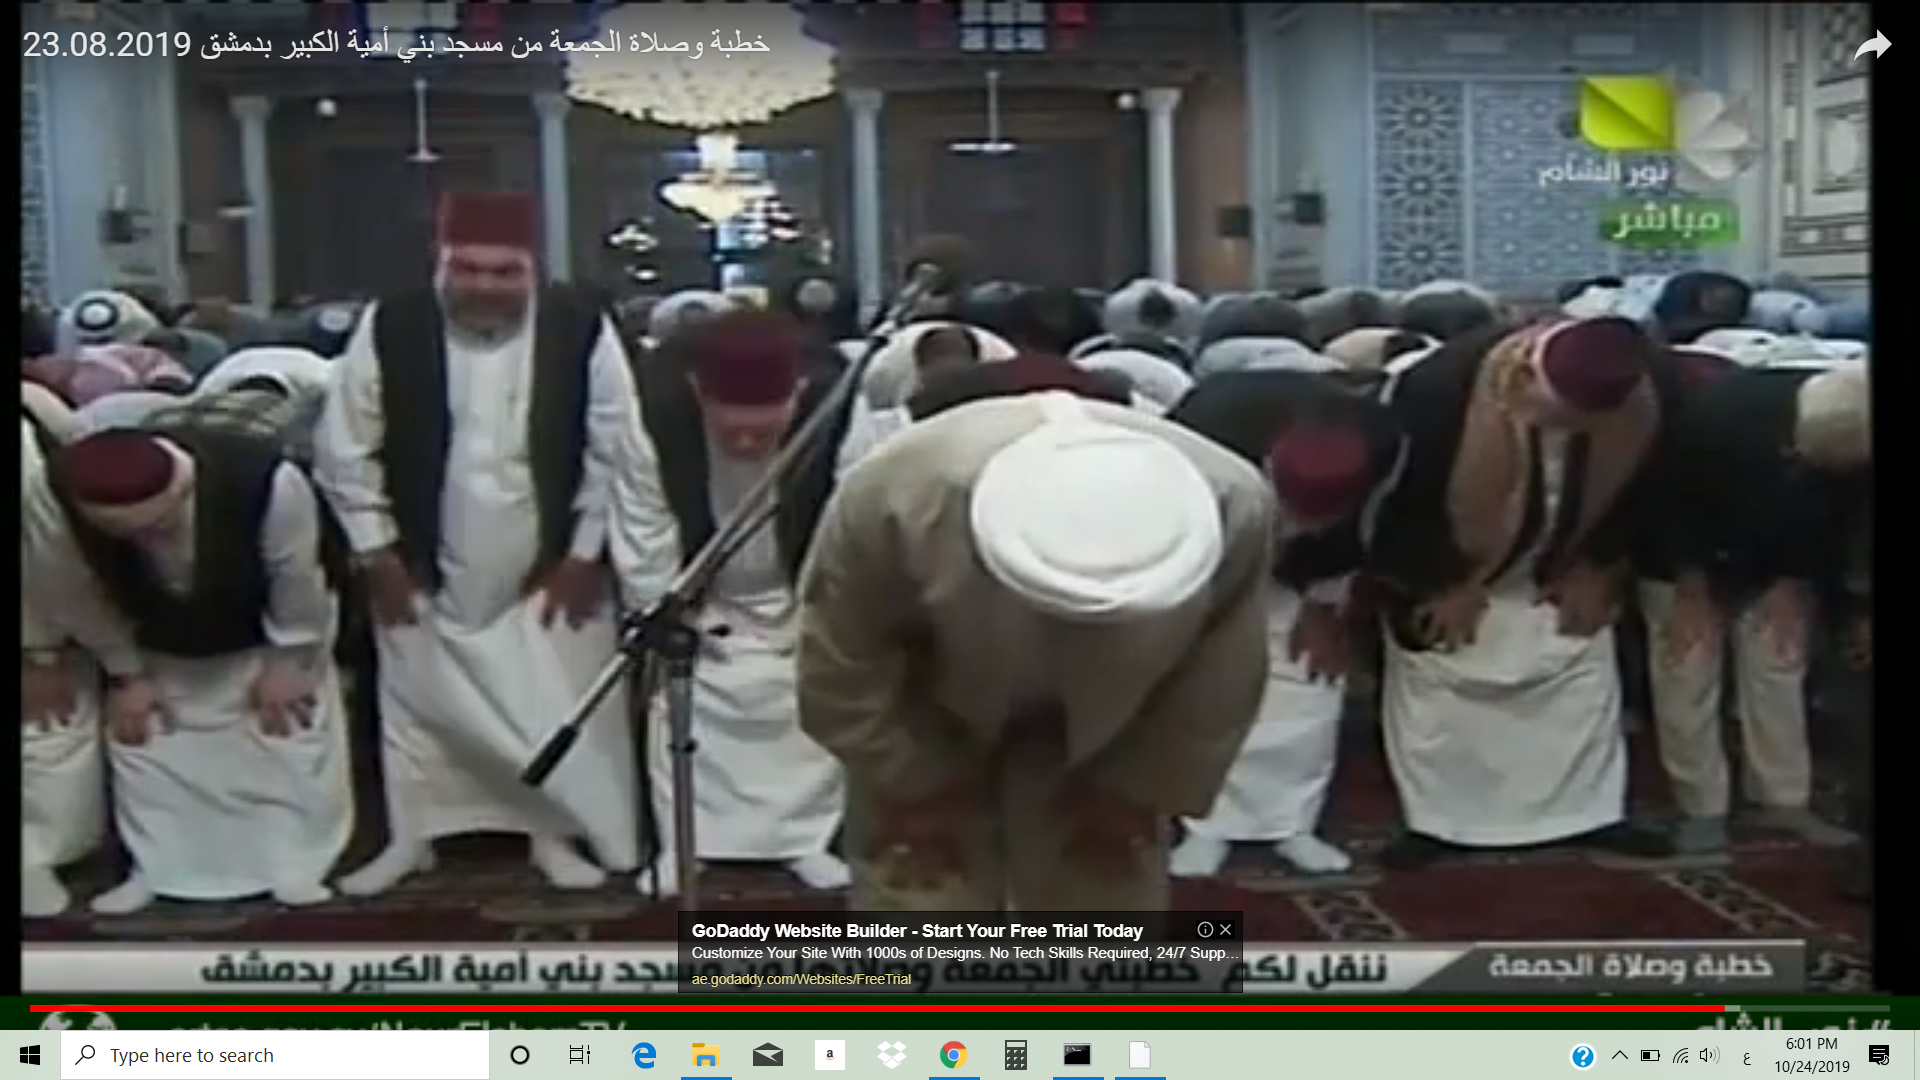ruku: (754, 406, 1364, 967), (54, 411, 423, 907)
